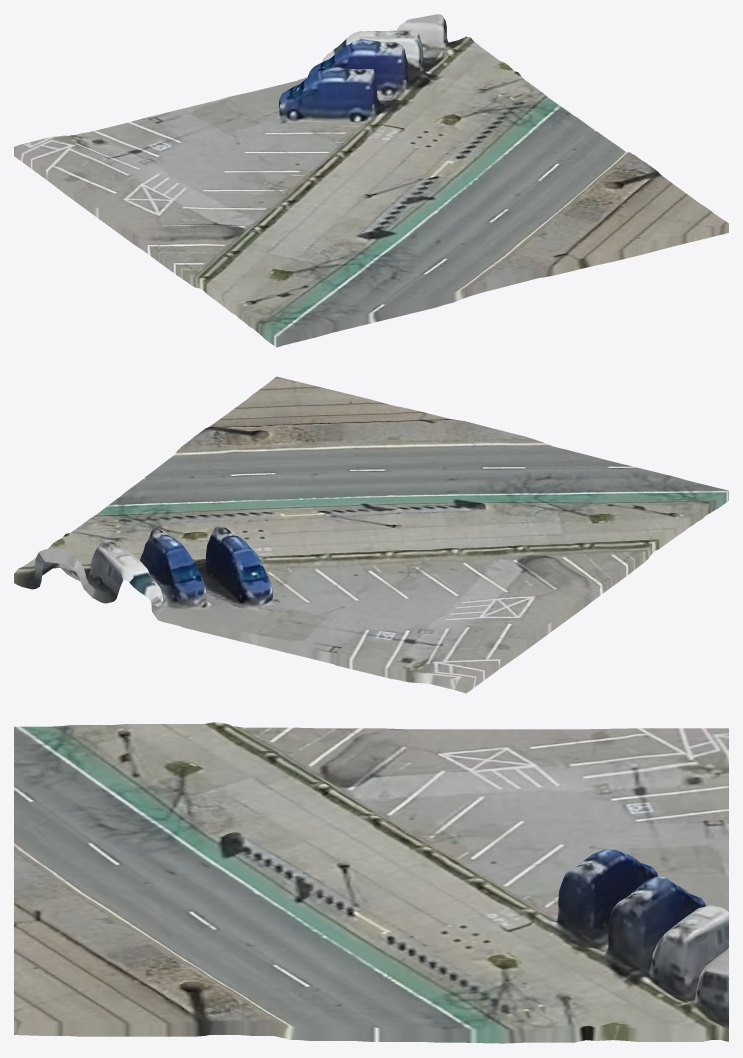
File: z20-167776-405204-h0-yup-uvflip-v3-world.glb
The picture shows the model from 3 angles, top to bottom: view 1: azimuth 30°, elevation 25°; view 2: azimuth 150°, elevation 25°; view 3: azimuth 270°, elevation 25°; orthographic projection. The views are drawn at different scales.
Size of the model in its own units: 30.16 by 3.84 by 30.32.
1 material, 1 textured.
